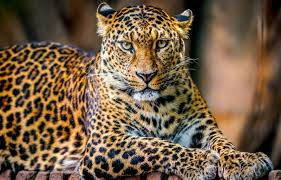leopard: (1, 4, 269, 177)
